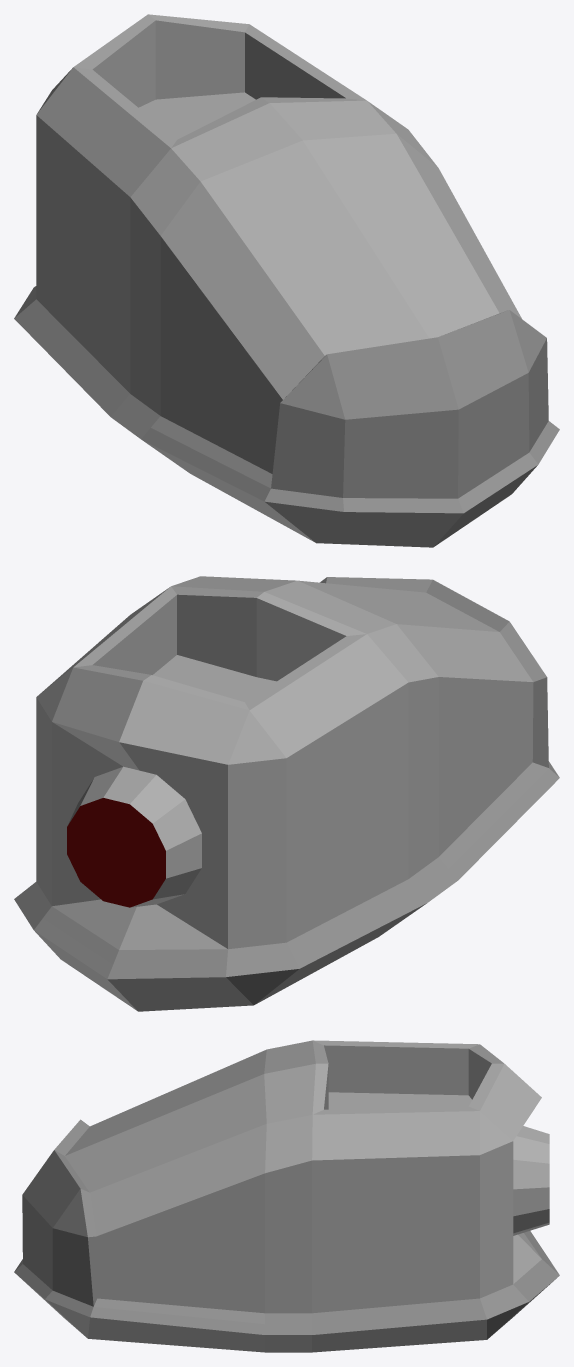
Rendered from Footwear.fbx.
3 views of the same model, one above another, from view 1: azimuth 30°, elevation 25°; view 2: azimuth 150°, elevation 25°; view 3: azimuth 270°, elevation 25° (orthographic). The views are drawn at different scales.
Parts seen in each view (by area): view 1: Footwear; view 2: Footwear; view 3: Footwear.
Part boxes in pixels (x1,y1,x2,y2): Footwear: (14,14,559,547); Footwear: (14,576,559,1011); Footwear: (14,1040,559,1352).
Size of the model in its own units: 63.43 by 64.65 by 122.
